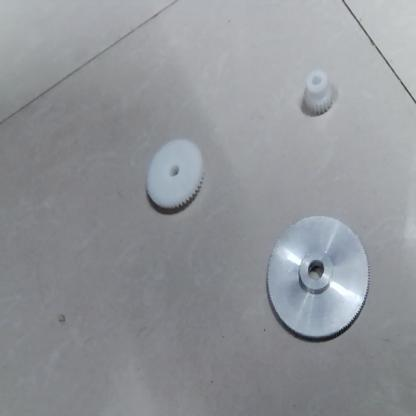FOD: (261, 208, 372, 350), (142, 135, 206, 224), (297, 68, 335, 119)
